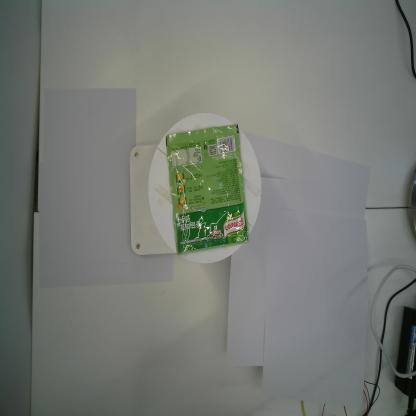Seasoner: (165, 123, 249, 255)
